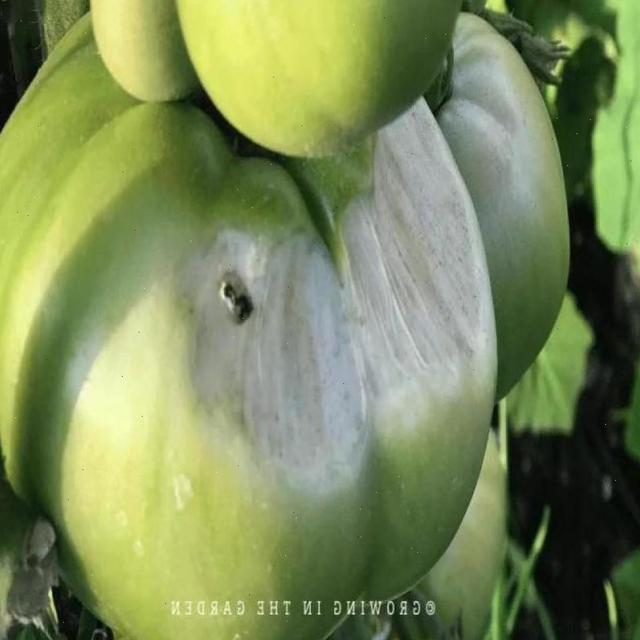Sunscald Fruit: (84, 100, 315, 280)
